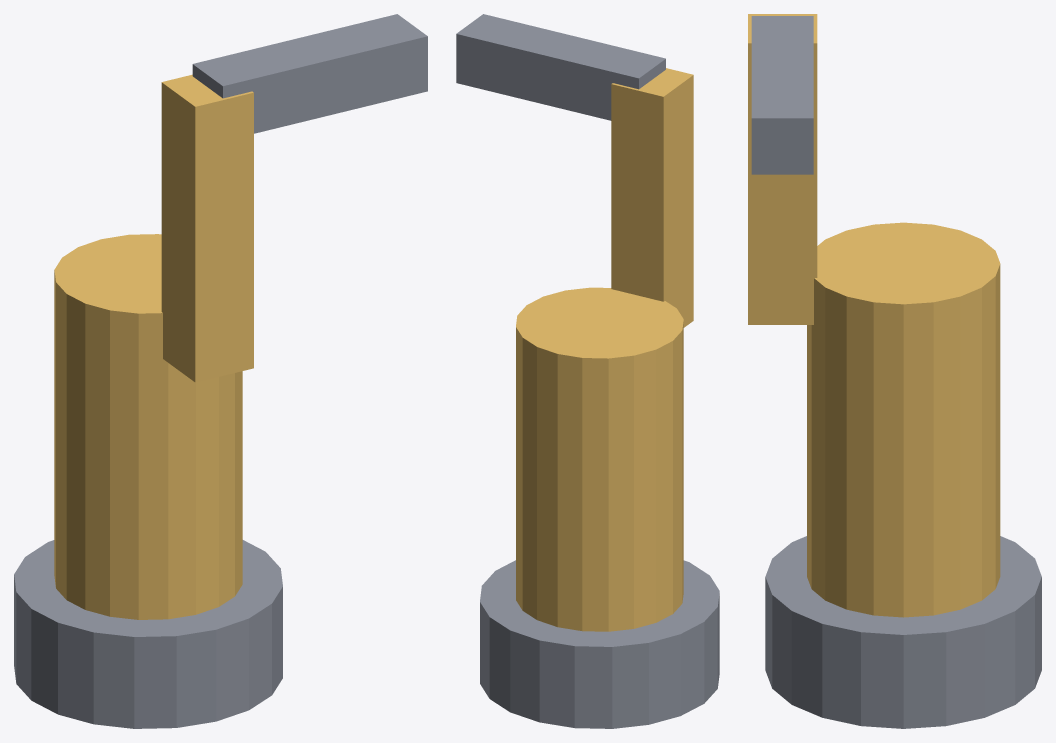
The model's file is robot_arm.glb.
3 renders of one model, left to right at view 1: azimuth 30°, elevation 25°; view 2: azimuth 150°, elevation 25°; view 3: azimuth 270°, elevation 25°, orthographic. The views are drawn at different scales.
Visible parts, largest first — view 1: robot_arm_1, robot_arm_0, robot_arm_2, robot_arm_3; view 2: robot_arm_1, robot_arm_0, robot_arm_2, robot_arm_3; view 3: robot_arm_1, robot_arm_0, robot_arm_2, robot_arm_3.
Boxes of the visible parts, x1,y1,x2,y2 form: robot_arm_1: [54, 234, 242, 619]; robot_arm_0: [14, 540, 282, 728]; robot_arm_2: [161, 74, 253, 382]; robot_arm_3: [192, 14, 427, 133]; robot_arm_1: [516, 287, 683, 631]; robot_arm_0: [480, 560, 719, 728]; robot_arm_2: [611, 68, 693, 327]; robot_arm_3: [456, 14, 665, 120]; robot_arm_1: [807, 222, 1000, 617]; robot_arm_0: [765, 536, 1041, 728]; robot_arm_2: [748, 14, 817, 324]; robot_arm_3: [751, 16, 813, 174].
Size of the model in its own units: 1.1 by 2.09 by 0.85.
